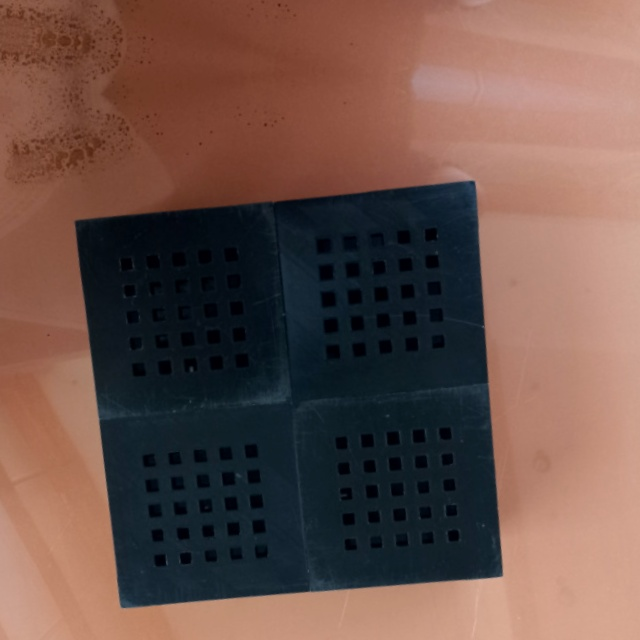pallet: (55, 173, 510, 616)
